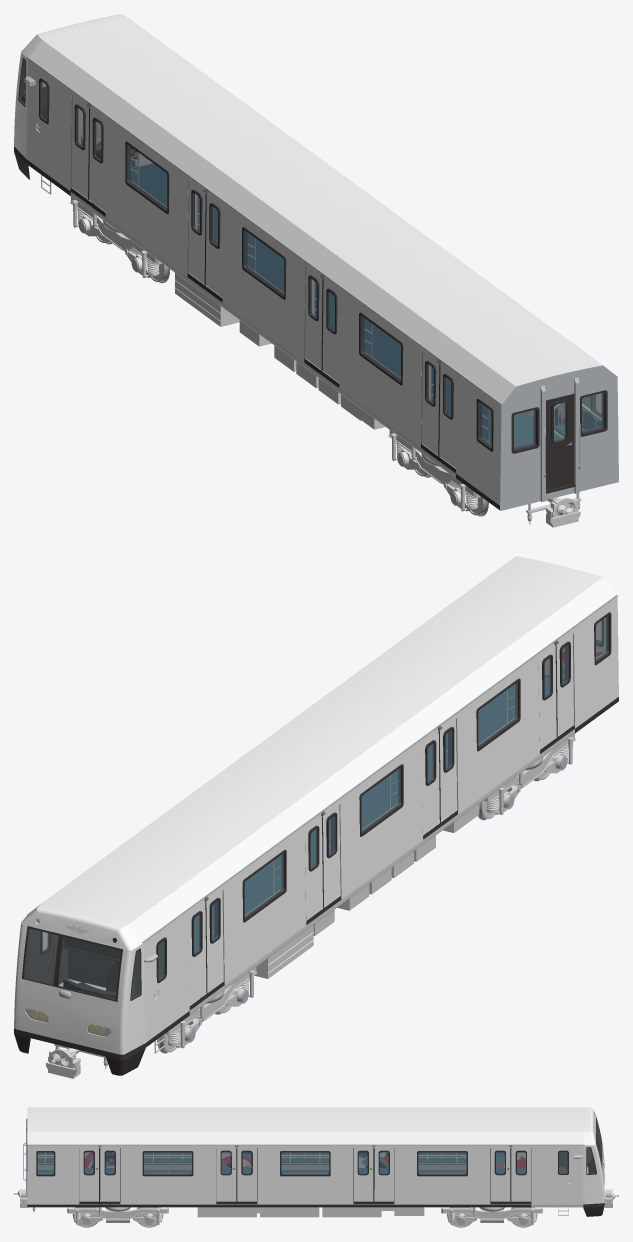
The model's file is car-8.glb.
3 views of the same model, one above another, from view 1: azimuth 30°, elevation 25°; view 2: azimuth 150°, elevation 25°; view 3: azimuth 270°, elevation 25° (orthographic). The views are drawn at different scales.
Visible parts, largest first — view 1: Mesh572.001, Mesh573.001, Mesh575.001, Mesh147.007, Mesh529.007, Mesh499.001, Mesh469.002, Mesh571.007, Mesh204.001, Mesh444.007, Mesh148.007, Mesh418.001 (+23 smaller); view 2: Mesh572.001, Mesh573.001, Mesh575.001, Mesh561.001, Mesh529.007, Mesh469.002, Mesh499.001, Mesh571.007, Mesh444.007, Mesh147.007, Mesh148.007, Mesh568.001 (+24 smaller); view 3: Mesh574.001, Mesh573.001, Mesh572.001, Mesh281.007, Mesh368.007, Mesh311.001, Mesh431.001, Mesh204.001, Mesh403.007, Mesh561.001, Cube.562, Cube.561 (+40 smaller).
Part boxes in pixels (left/top/right/bottom): Mesh572.001: left=43, top=28, right=558, bottom=386; Mesh573.001: left=86, top=19, right=602, bottom=374; Mesh575.001: left=28, top=40, right=515, bottom=409; Mesh147.007: left=456, top=374, right=559, bottom=510; Mesh529.007: left=105, top=121, right=188, bottom=276; Mesh499.001: left=339, top=292, right=421, bottom=447; Mesh469.002: left=222, top=207, right=305, bottom=361; Mesh571.007: left=130, top=163, right=561, bottom=447; Mesh204.001: left=559, top=365, right=618, bottom=496; Mesh444.007: left=26, top=63, right=71, bottom=195; Mesh148.007: left=70, top=192, right=455, bottom=477; Mesh418.001: left=546, top=394, right=575, bottom=493; Mesh572.001: left=86, top=565, right=602, bottom=923; Mesh573.001: left=43, top=556, right=558, bottom=911; Mesh575.001: left=130, top=577, right=617, bottom=946; Mesh561.001: left=14, top=924, right=145, bottom=1060; Mesh529.007: left=223, top=830, right=306, bottom=984; Mesh469.002: left=340, top=744, right=423, bottom=899; Mesh499.001: left=457, top=659, right=539, bottom=813; Mesh571.007: left=194, top=677, right=563, bottom=952; Mesh444.007: left=144, top=915, right=189, bottom=1047; Mesh147.007: left=573, top=601, right=618, bottom=733; Mesh148.007: left=189, top=729, right=574, bottom=1014; Mesh568.001: left=59, top=941, right=162, bottom=995; Mesh574.001: left=27, top=1132, right=583, bottom=1147; Mesh573.001: left=27, top=1119, right=583, bottom=1132; Mesh572.001: left=27, top=1107, right=583, bottom=1118; Mesh281.007: left=257, top=1148, right=353, bottom=1204; Mesh368.007: left=120, top=1148, right=216, bottom=1204; Mesh311.001: left=394, top=1148, right=490, bottom=1204; Mesh431.001: left=531, top=1148, right=583, bottom=1207; Mesh204.001: left=26, top=1128, right=79, bottom=1207; Mesh403.007: left=79, top=1204, right=531, bottom=1207; Mesh561.001: left=583, top=1115, right=604, bottom=1207; Cube.562: left=418, top=1152, right=466, bottom=1174; Cube.561: left=281, top=1152, right=329, bottom=1174.
Size of the model in its own units: 2.88 by 3.62 by 19.96.
Materials: 60 (1 with a texture image).
